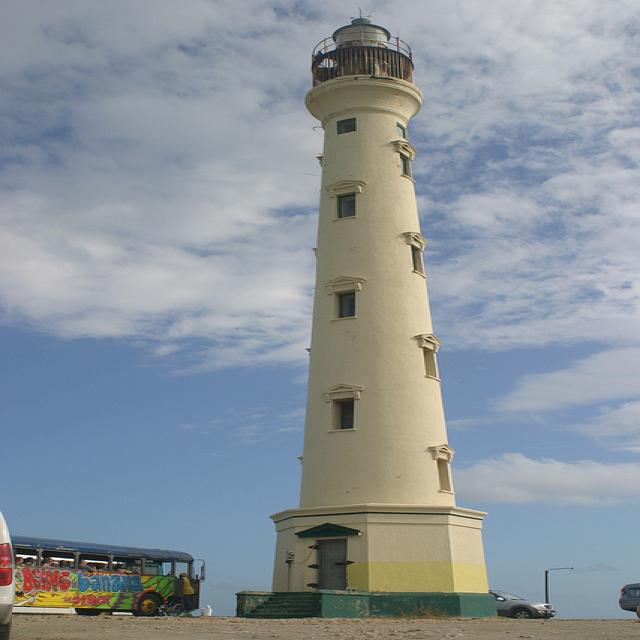Vehicle: (12, 534, 210, 624), (491, 589, 556, 619), (619, 583, 640, 620)
